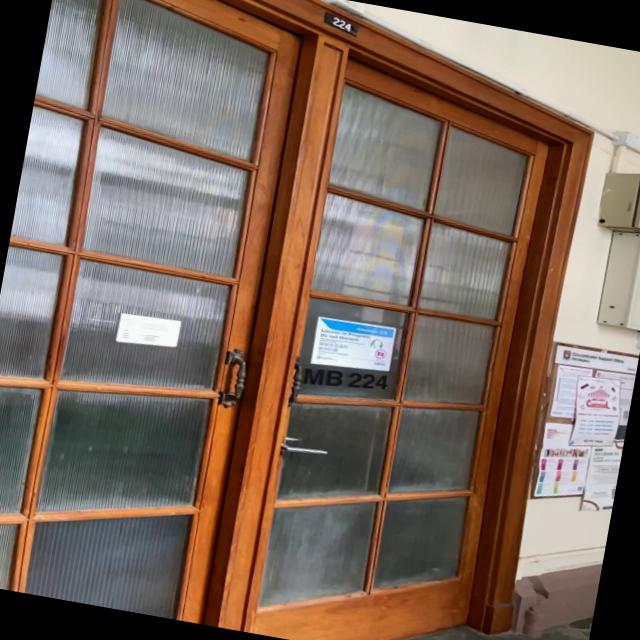room224: (320, 9, 360, 37)
room224Window: (298, 360, 392, 400)
